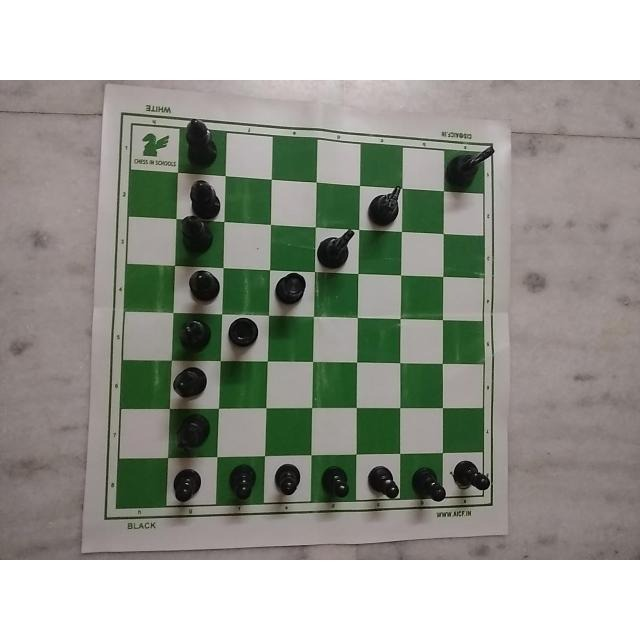black-bishop: (179, 111, 220, 172), (181, 171, 225, 221), (173, 412, 216, 460), (172, 322, 216, 361), (177, 209, 212, 256), (169, 364, 210, 404), (182, 270, 217, 307)
black-knight: (445, 144, 498, 193), (318, 227, 357, 275), (369, 185, 410, 227)
black-pawn: (402, 460, 450, 506), (169, 464, 211, 510), (456, 454, 496, 500), (272, 456, 308, 501), (323, 461, 355, 507), (227, 464, 262, 506), (370, 458, 403, 502)
black-rook: (219, 316, 268, 366), (272, 269, 311, 313)
